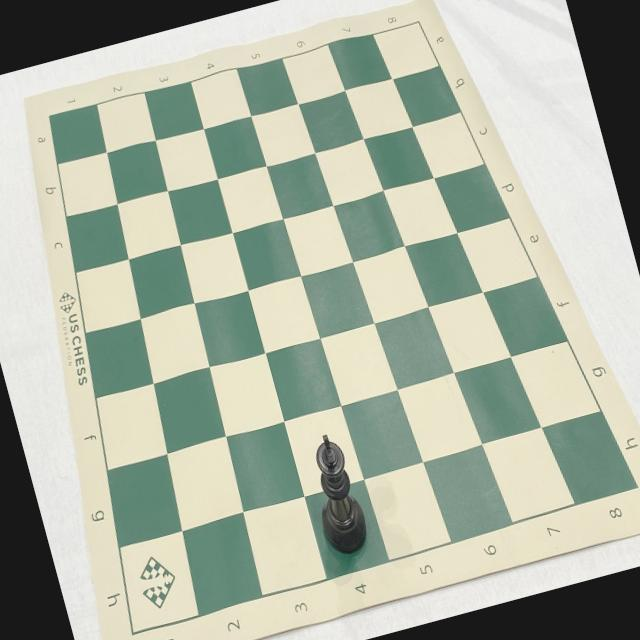black-king: (298, 428, 373, 561)
